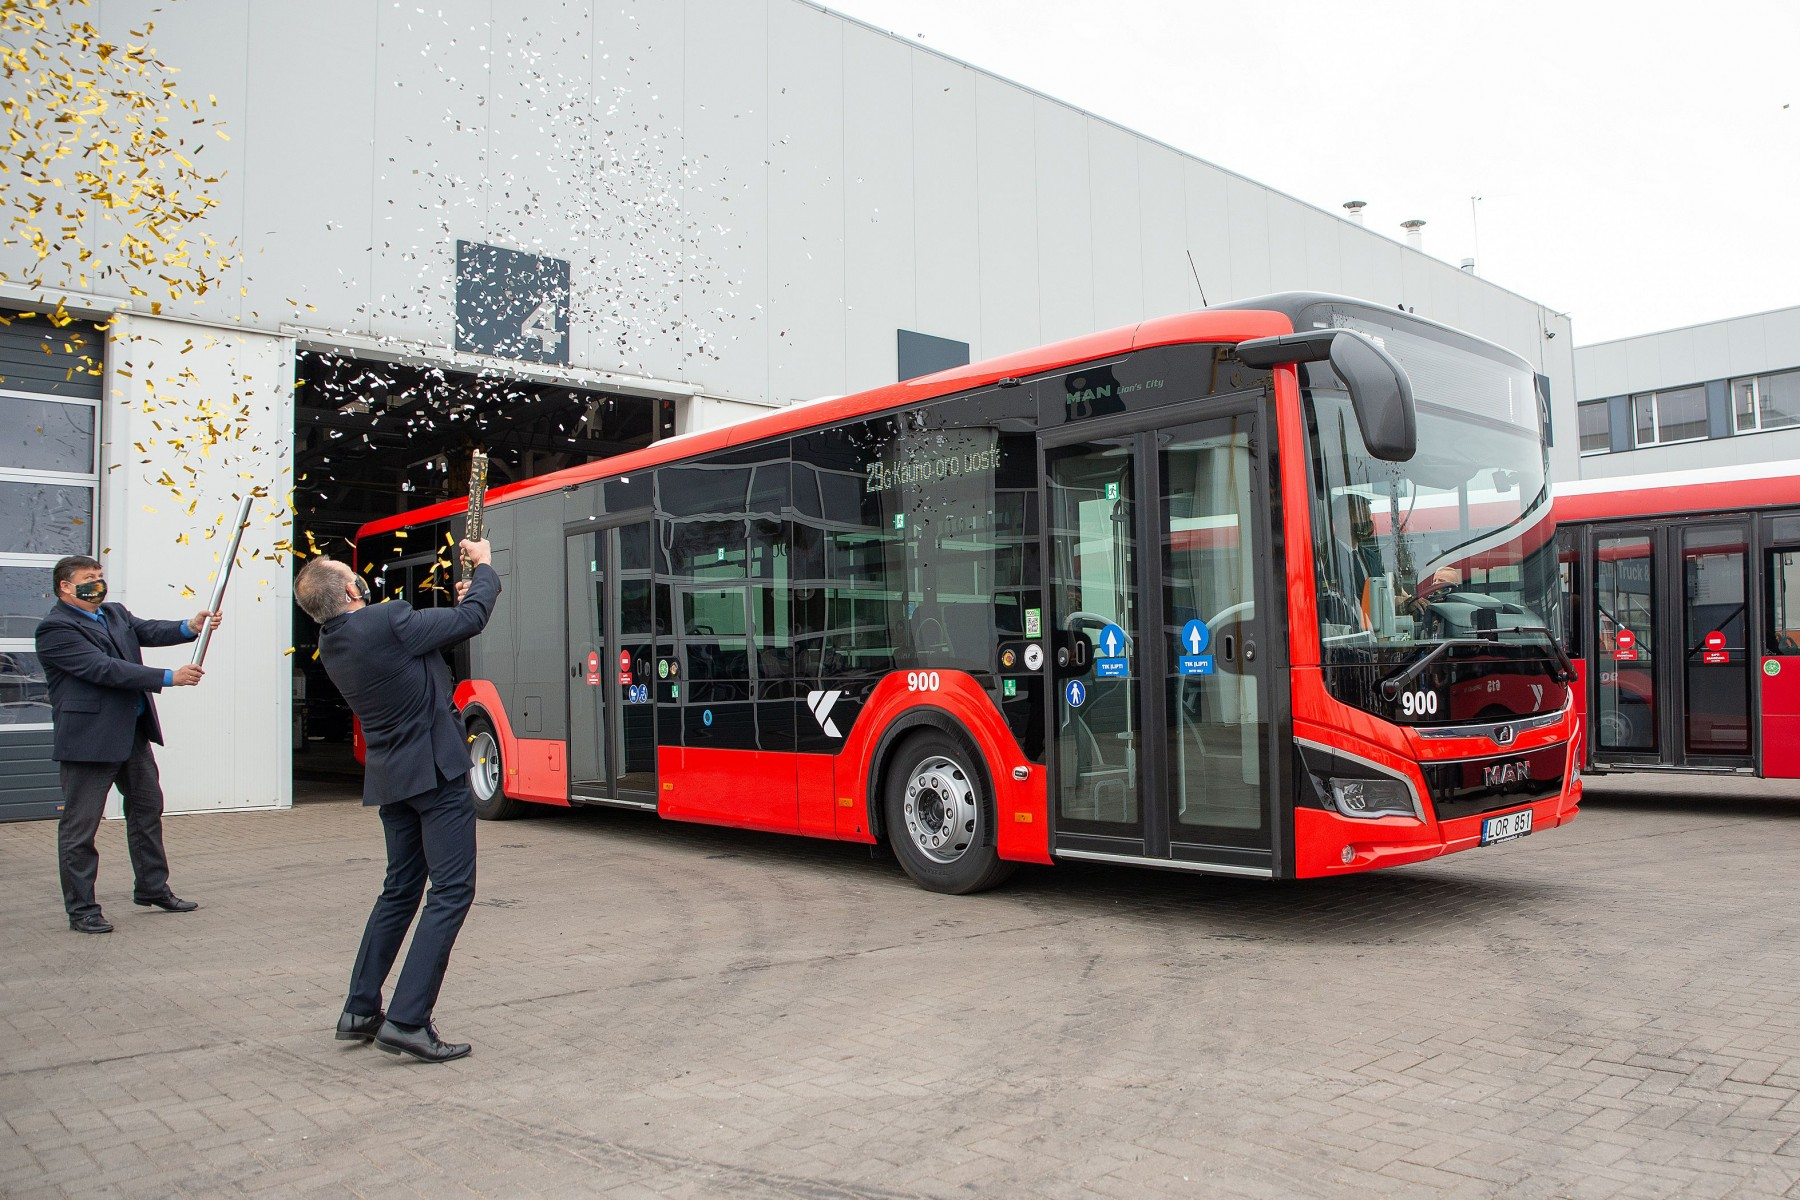bus: (346, 291, 1588, 909)
